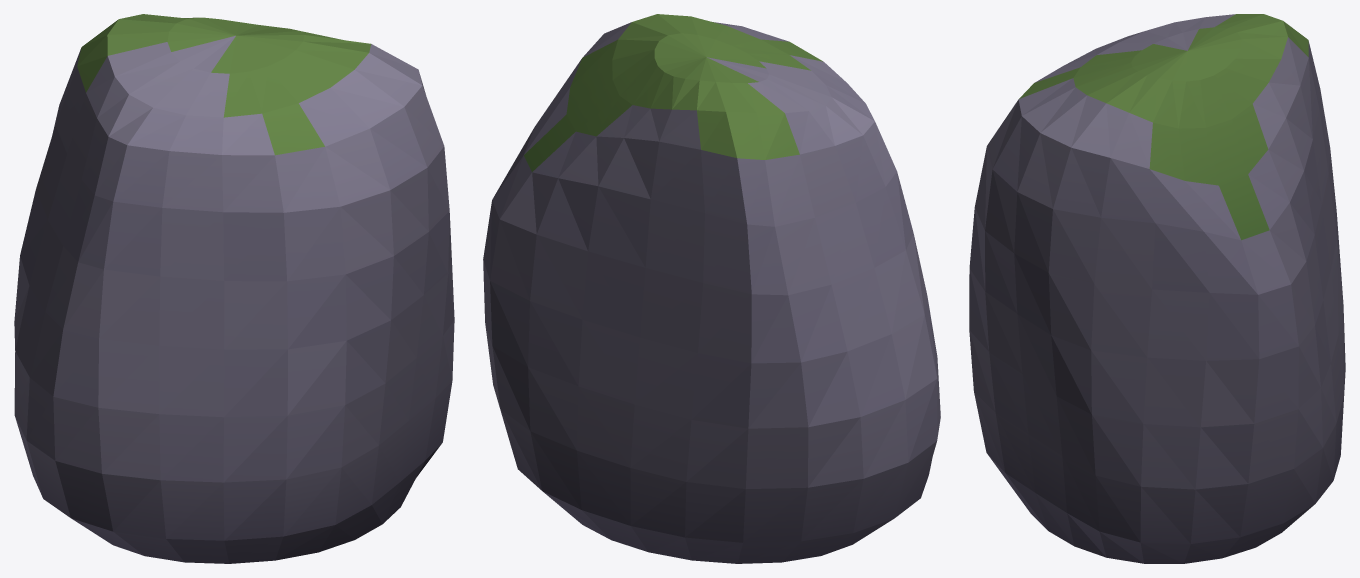
File: CoverRock.glb
The picture shows the model from 3 angles, left to right: view 1: azimuth 30°, elevation 25°; view 2: azimuth 150°, elevation 25°; view 3: azimuth 270°, elevation 25°; orthographic projection. The views are drawn at different scales.
Visible parts, largest first — view 1: CoverRock; view 2: CoverRock; view 3: CoverRock.
Part boxes in pixels (x1,y1,x2,y2): CoverRock: (14,14,454,563); CoverRock: (483,14,940,563); CoverRock: (969,14,1345,563).
Bounding box in the file's own units: 2.17 × 2.39 × 1.8.
